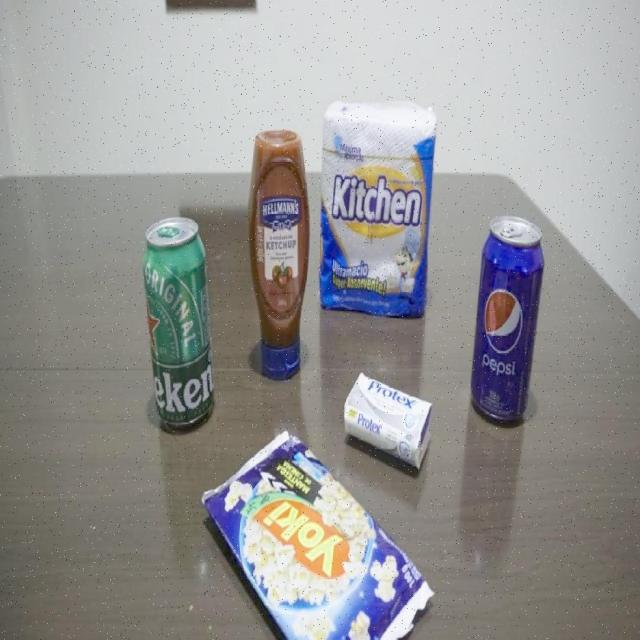BeerCan: (141, 215, 217, 437)
Ketchup: (249, 124, 312, 378)
Napkin: (317, 100, 440, 315)
Popcorn: (201, 432, 435, 640)
Soap: (342, 371, 434, 477)
SodaCan: (469, 215, 546, 428)
